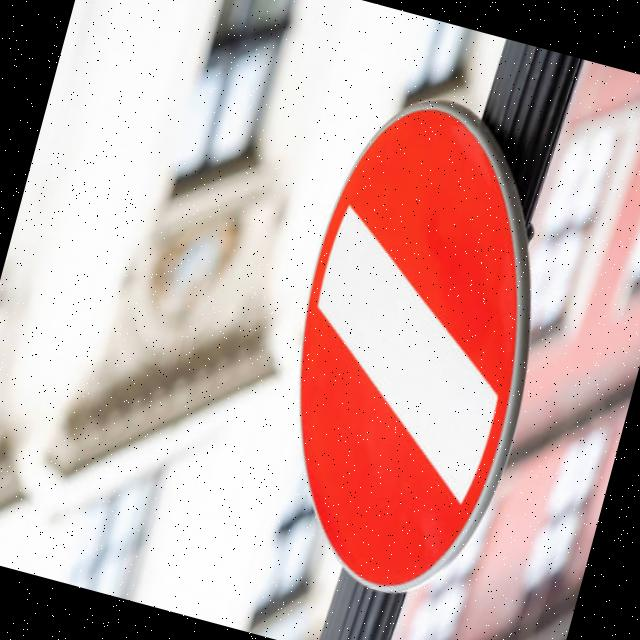do_not_enter: (215, 81, 610, 630)
